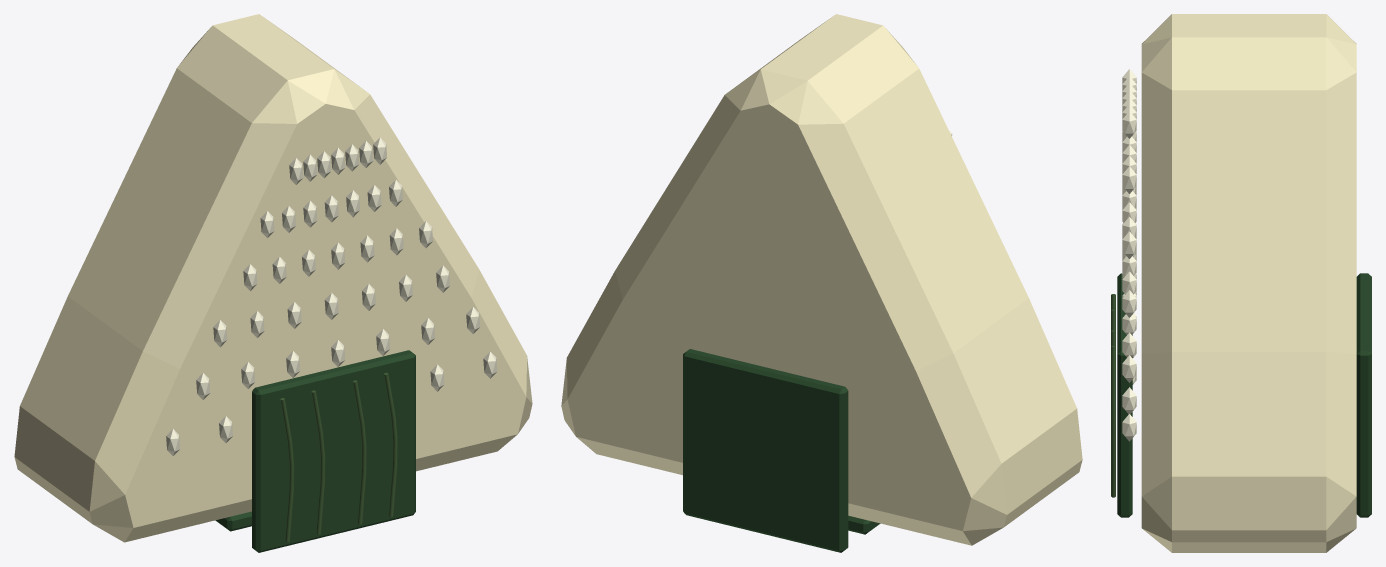
The model's file is onigiri.obj.
3 renders of one model, left to right at view 1: azimuth 30°, elevation 25°; view 2: azimuth 150°, elevation 25°; view 3: azimuth 270°, elevation 25°, orthographic. The views are drawn at different scales.
Parts seen in each view (by area): view 1: A_RiceTriangle.001_onigiri_rice, C_NoriFront.001_onigiri_nori, B_IndividualRiceGrains.001_onigiri_grain, D_SeaweedRib-0.001_onigiri_seaweed_ribs, D_SeaweedRib-0.003_onigiri_seaweed_ribs, D_SeaweedRib0.001_onigiri_seaweed_ribs, D_SeaweedRib0.003_onigiri_seaweed_ribs; view 2: A_RiceTriangle.001_onigiri_rice, C_NoriRear.001_onigiri_nori; view 3: A_RiceTriangle.001_onigiri_rice, B_IndividualRiceGrains.001_onigiri_grain, C_NoriRear.001_onigiri_nori, C_NoriFront.001_onigiri_nori, D_SeaweedRib0.003_onigiri_seaweed_ribs.
Part boxes in pixels (x1,y1,x2,y2): A_RiceTriangle.001_onigiri_rice: (14, 14, 532, 542); C_NoriFront.001_onigiri_nori: (252, 350, 415, 552); B_IndividualRiceGrains.001_onigiri_grain: (166, 137, 497, 455); D_SeaweedRib-0.001_onigiri_seaweed_ribs: (311, 390, 325, 534); D_SeaweedRib-0.003_onigiri_seaweed_ribs: (280, 398, 294, 542); D_SeaweedRib0.001_onigiri_seaweed_ribs: (352, 380, 366, 524); D_SeaweedRib0.003_onigiri_seaweed_ribs: (383, 372, 397, 516); A_RiceTriangle.001_onigiri_rice: (561, 14, 1082, 545); C_NoriRear.001_onigiri_nori: (683, 349, 848, 552); A_RiceTriangle.001_onigiri_rice: (1141, 14, 1356, 552); B_IndividualRiceGrains.001_onigiri_grain: (1122, 69, 1136, 441); C_NoriRear.001_onigiri_nori: (1356, 273, 1371, 517); C_NoriFront.001_onigiri_nori: (1117, 273, 1132, 517); D_SeaweedRib0.003_onigiri_seaweed_ribs: (1111, 346, 1115, 497).
Bounding box in the file's own units: 1.71 × 1.63 × 0.85.
